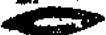Mouth: (1, 6, 105, 35)
